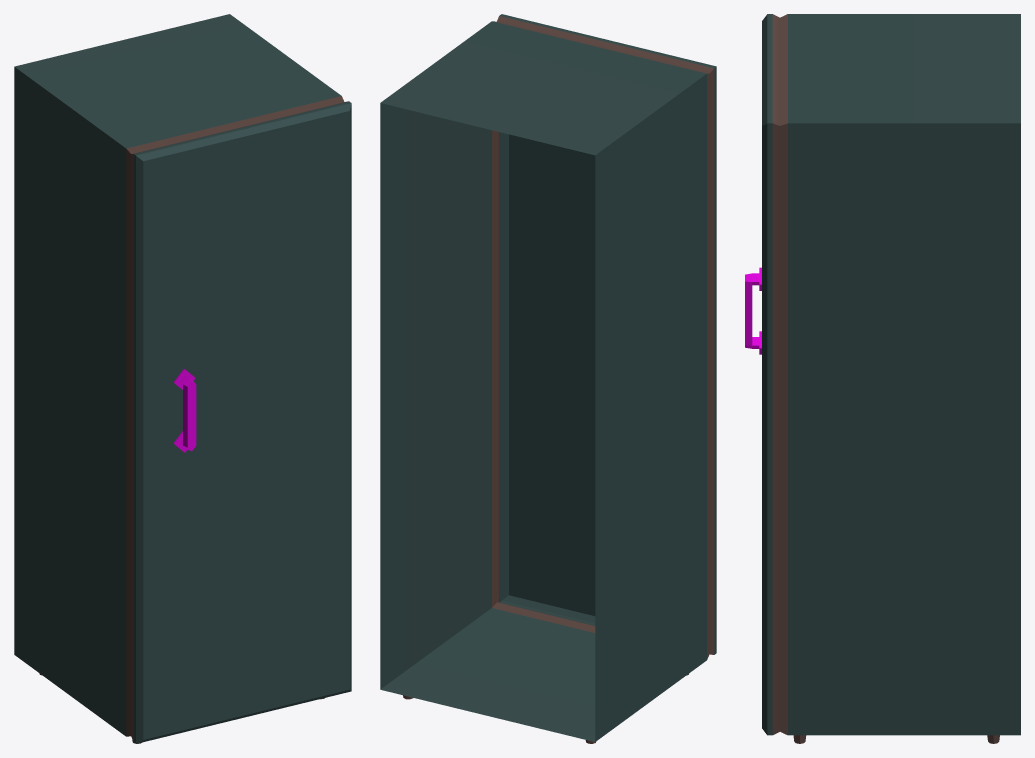
The model's file is Frigo.fbx.
3 renders of one model, left to right at view 1: azimuth 30°, elevation 25°; view 2: azimuth 150°, elevation 25°; view 3: azimuth 270°, elevation 25°, orthographic. The views are drawn at different scales.
Visible parts, largest first — view 1: Frigo; view 2: Frigo; view 3: Frigo.
Boxes of the visible parts, x1,y1,x2,y2 form: Frigo: [14, 14, 351, 743]; Frigo: [380, 14, 716, 743]; Frigo: [745, 14, 1020, 743].
Size of the model in its own units: 75 by 200 by 79.89.
